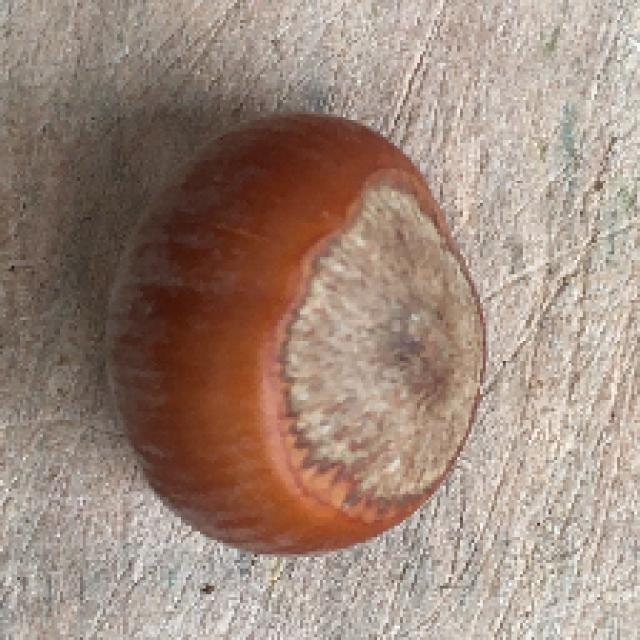qualityHazelnut: (99, 108, 493, 560)
